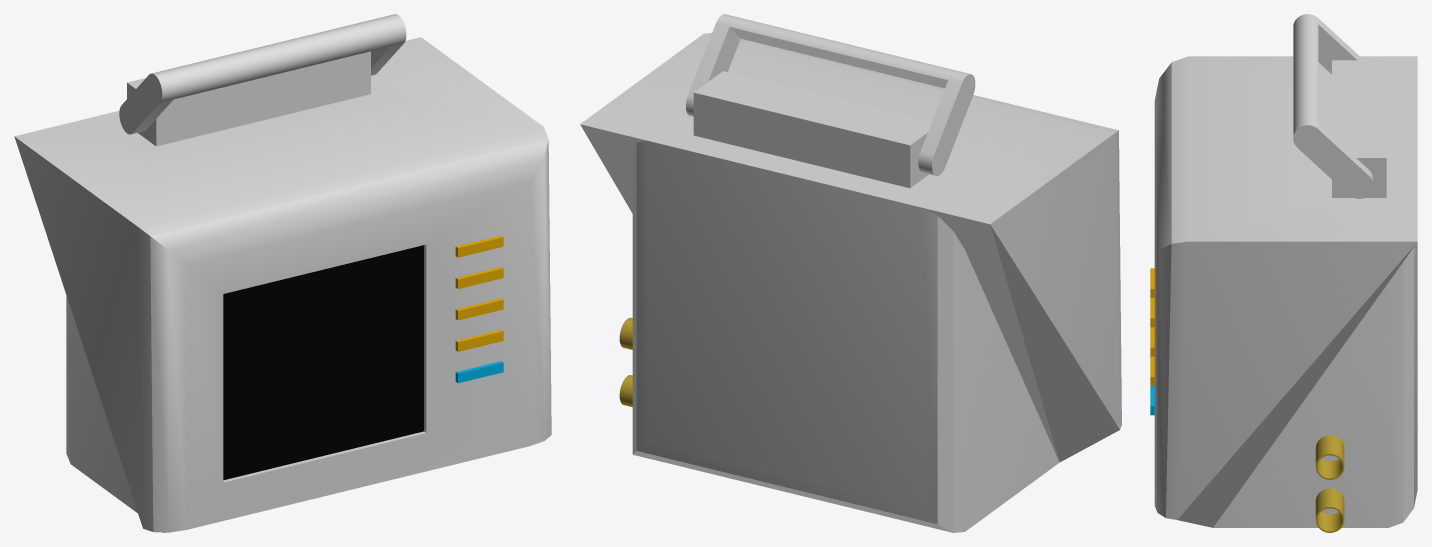
Rendered from BSV06.fbx.
3 renders of one model, left to right at view 1: azimuth 30°, elevation 25°; view 2: azimuth 150°, elevation 25°; view 3: azimuth 270°, elevation 25°, orthographic. The views are drawn at different scales.
Parts seen in each view (by area): view 1: BSV06; view 2: BSV06; view 3: BSV06.
Boxes of the visible parts, x1,y1,x2,y2 form: BSV06: [14, 14, 551, 532]; BSV06: [580, 14, 1121, 532]; BSV06: [1150, 14, 1417, 532].
Bounding box in the file's own units: 30 × 28.99 × 18.3.
